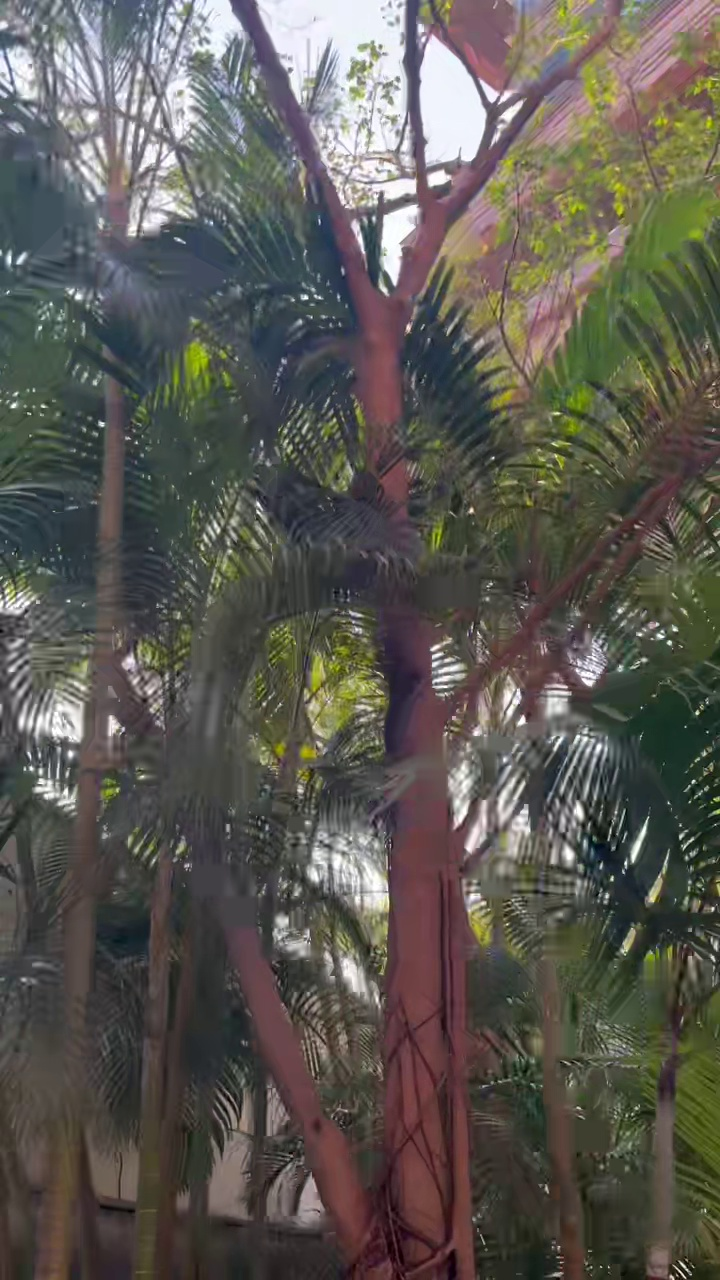Ficus benjamina: (231, 0, 623, 1279)
